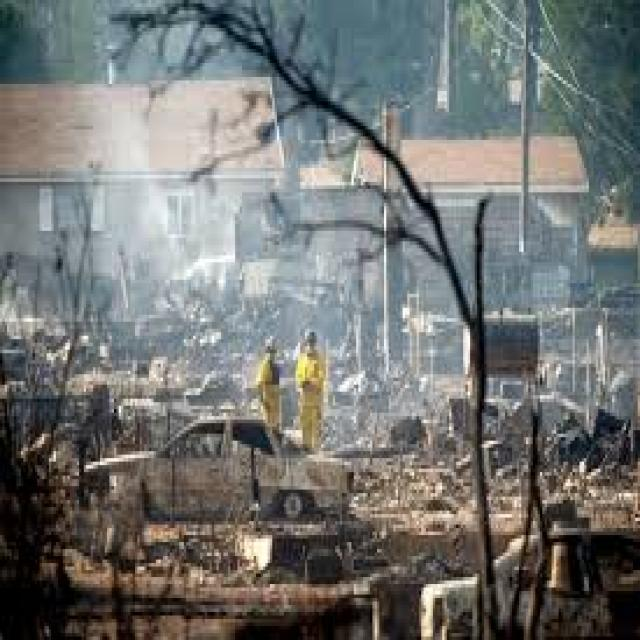Forest Fire: (198, 64, 600, 508)
